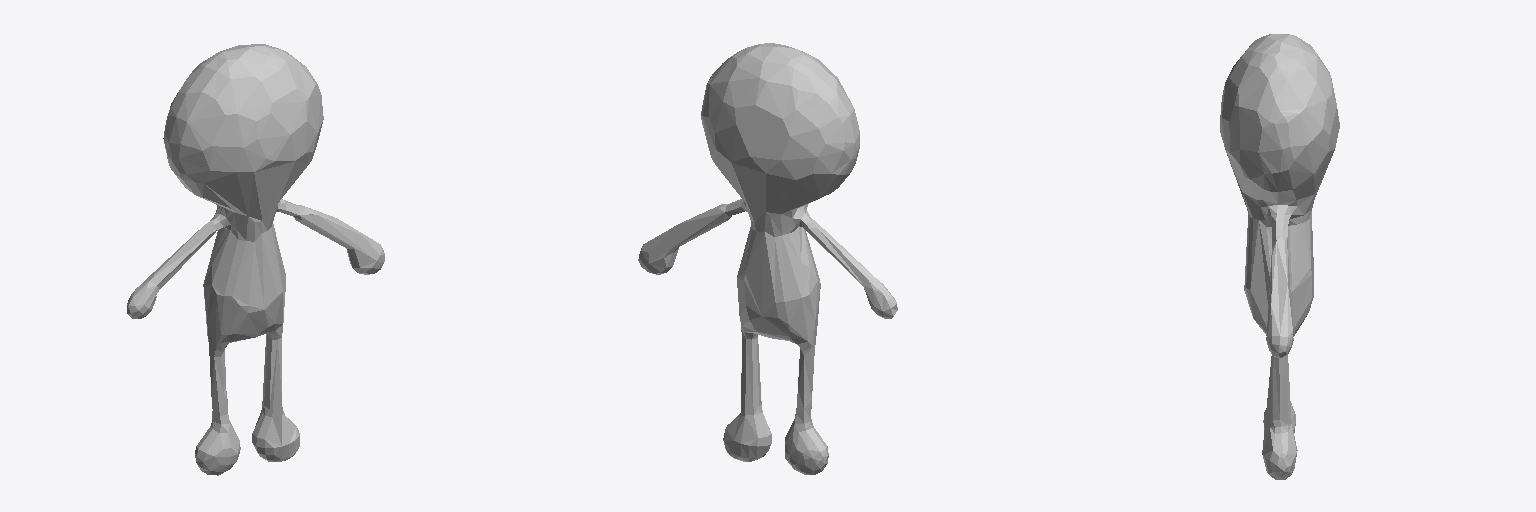
The model's file is guy.obj.
The picture shows the model from 3 angles: view 1: azimuth 30°, elevation 25°; view 2: azimuth 150°, elevation 25°; view 3: azimuth 270°, elevation 25°; orthographic projection.
Visible parts, largest first — view 1: curious_stickman; view 2: curious_stickman; view 3: curious_stickman.
Part boxes in pixels (x1,y1,x2,y2): curious_stickman: (127, 44, 384, 475); curious_stickman: (638, 43, 897, 474); curious_stickman: (1220, 34, 1339, 479).
Size of the model in its own units: 4.38 by 6.88 by 1.78.